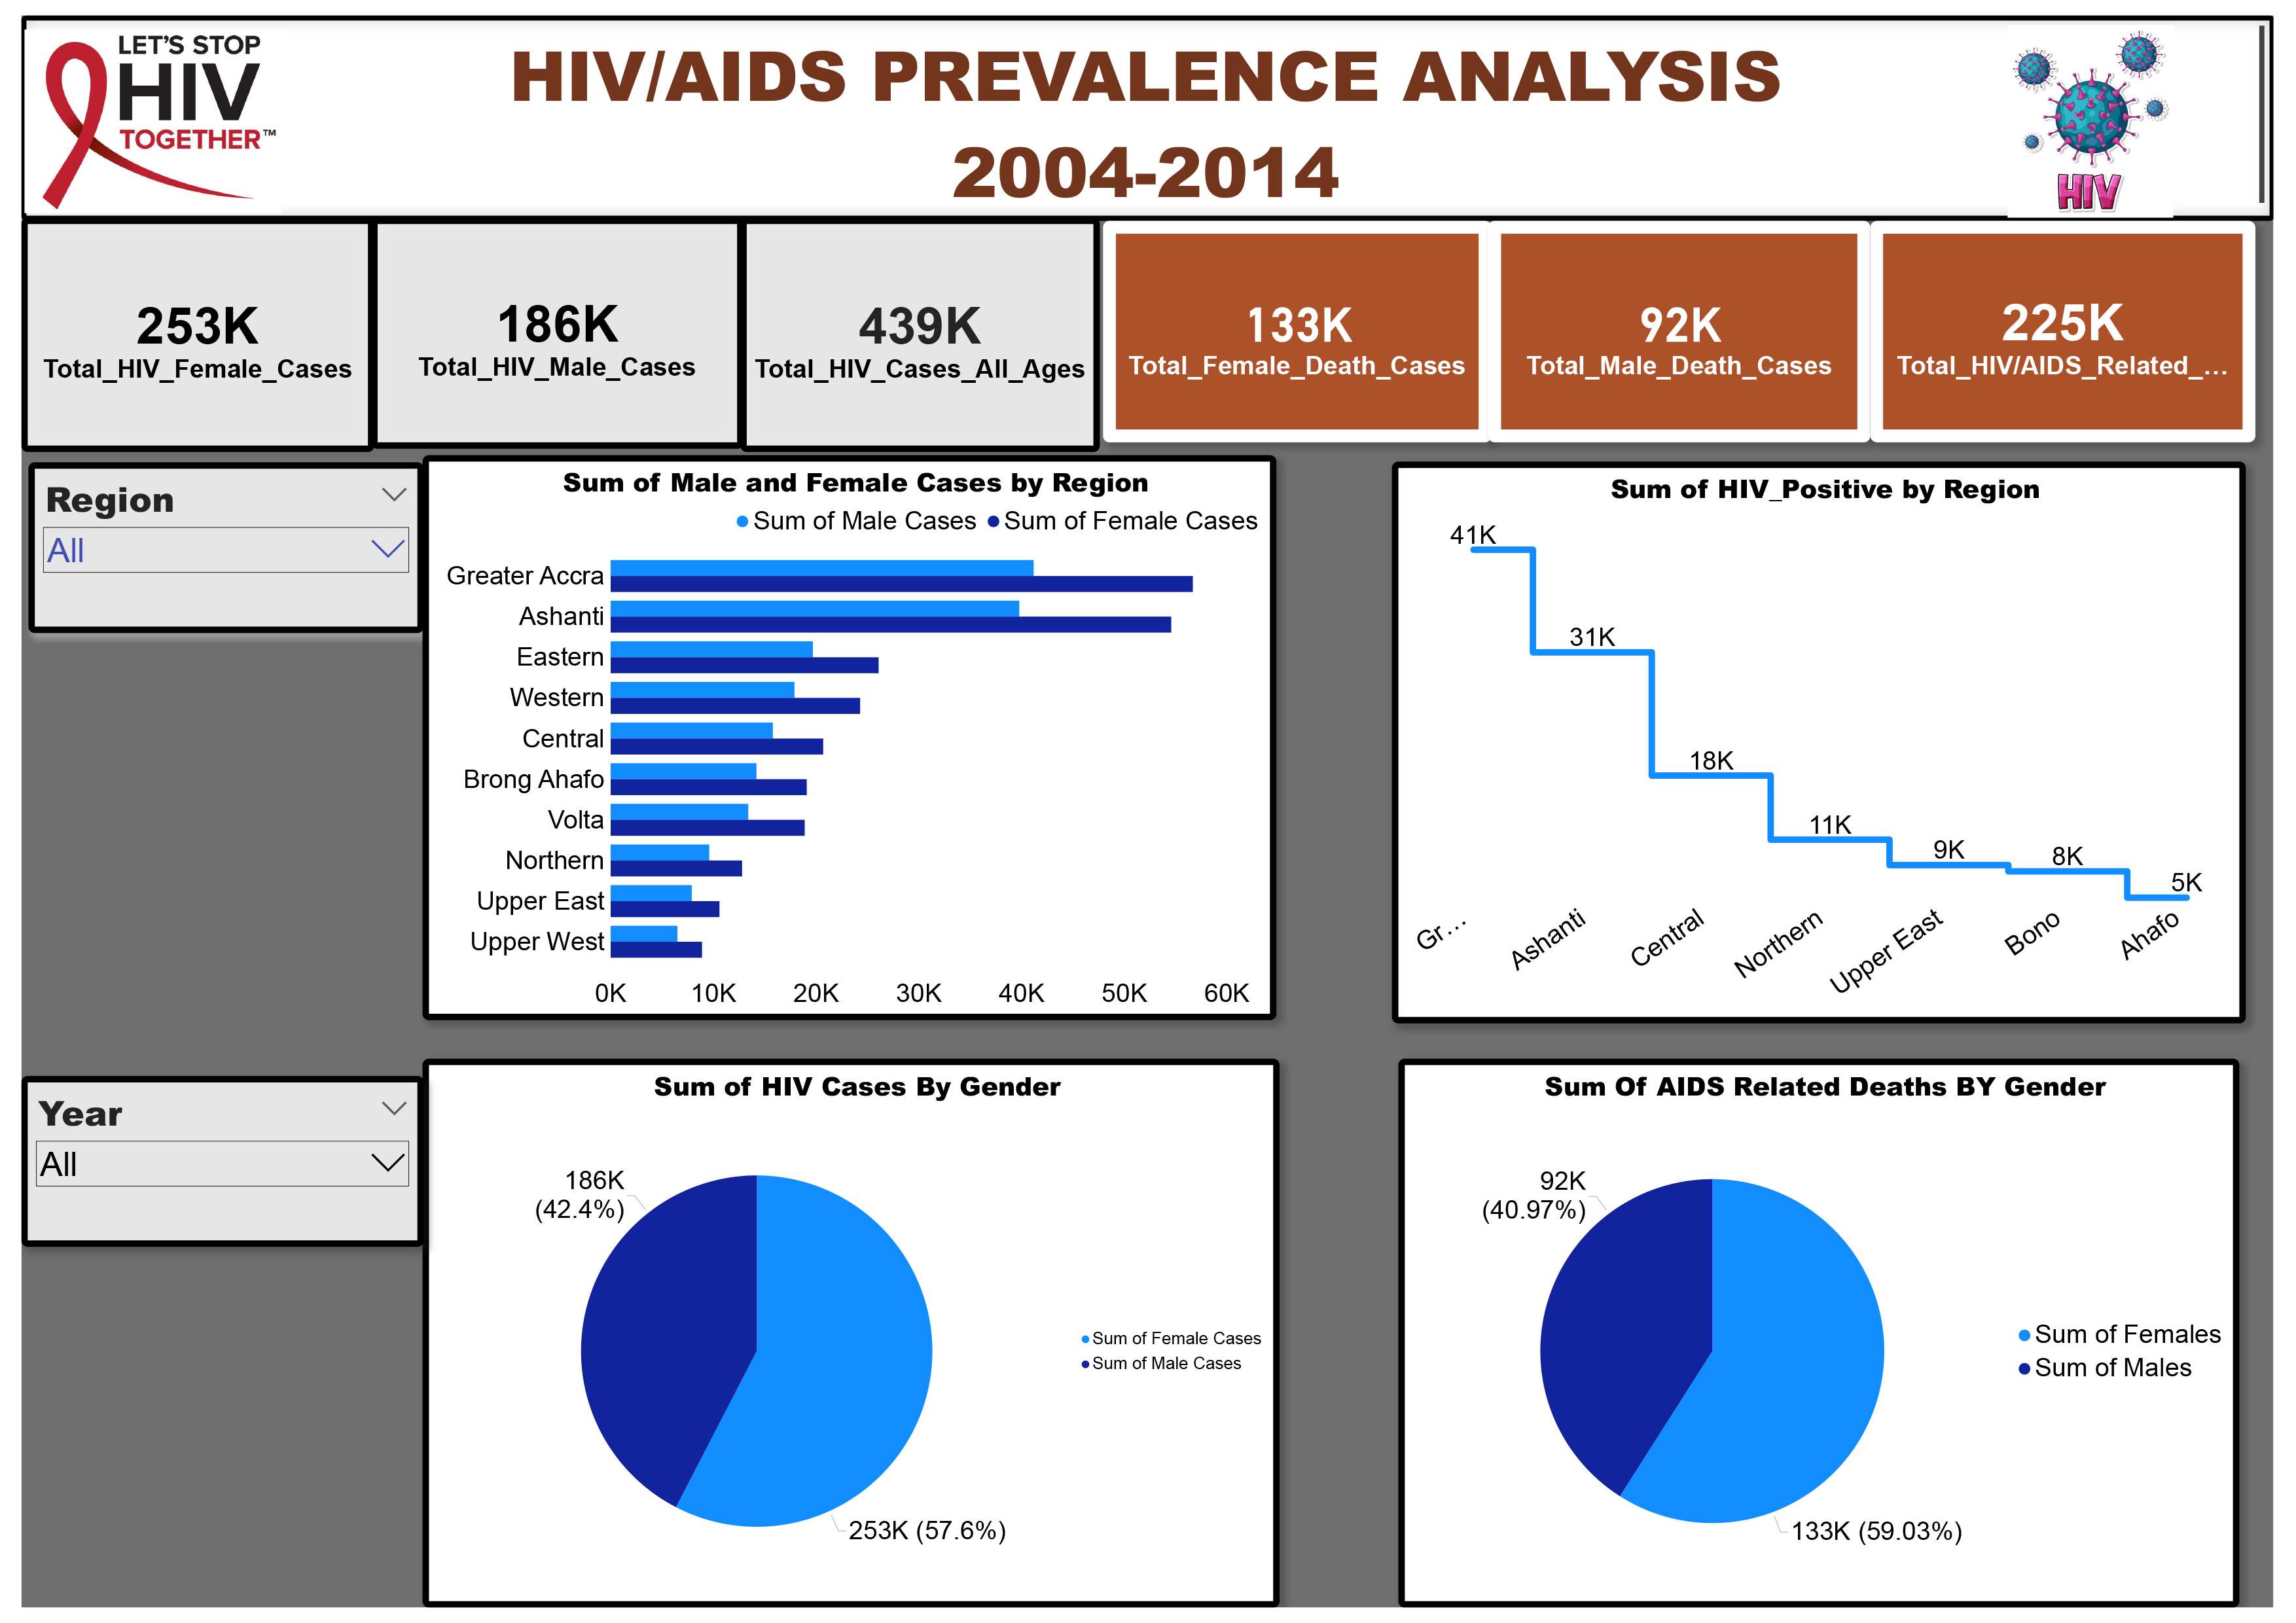

This screenshot's page, from the dashboard's own definition file:
{"tool":"powerbi","page":{"name":"Front View","canvas":[3508,2480],"ordinal":0},"visuals":[{"type":"textbox","box":[0,0,3510,320],"z":0},{"type":"card","fields":{"Values":["HIV GENDER ESTIMATES.Total_HIV_Female_Cases"]},"box":[0,315,550,365],"z":1000},{"type":"card","fields":{"Values":["HIV GENDER ESTIMATES.Sum_Of_Total_Cases_All_Ages"]},"box":[1120,315,560,365],"z":2000},{"type":"card","fields":{"Values":["HIV GENDER ESTIMATES.Total_HIV_Male_Cases"]},"box":[545,315,580,360],"z":3000},{"type":"slicer","fields":{"Values":["HIV GENDER ESTIMATES.Region"]},"box":[10.6,696,616.3,265.6],"z":4000},{"type":"pieChart","title":"Sum of HIV Cases By Gender","fields":{"Y":["Sum(HIV GENDER ESTIMATES.Female Cases)","Sum(HIV GENDER ESTIMATES.Male Cases)"]},"box":[625,1625,1335,855],"z":5000},{"type":"clusteredBarChart","title":"Sum of Male and Female Cases by Region","fields":{"Category":["HIV GENDER ESTIMATES.Region"],"Y":["Sum(HIV GENDER ESTIMATES.Male Cases)","Sum(HIV GENDER ESTIMATES.Female Cases)"]},"box":[625,685,1330,880],"z":6000},{"type":"lineChart","fields":{"Category":["Ghana_HIV_Map_2004_2014.Region"],"Y":["Sum(Ghana_HIV_Map_2004_2014.HIV_Positive)"]},"box":[2135,695,1330,875],"z":7000},{"type":"image","box":[0,10,410,310],"z":8000},{"type":"image","box":[2980,10,485,310],"z":9000},{"type":"card","fields":{"Values":["AIDS RELATED DEATHS.Total_Sum_Of_HIV_Female_Patients"]},"box":[1685,320,605,345],"z":10000},{"type":"card","fields":{"Values":["AIDS RELATED DEATHS.Total_Sum_Of_HIV_Male_Patients"]},"box":[2285,320,595,345],"z":11000},{"type":"card","fields":{"Values":["AIDS RELATED DEATHS.Total_Sum_Of_HIV/AIDS_Related_Deaths"]},"box":[2880,320,600,345],"z":12000},{"type":"pieChart","title":"Sum Of AIDS Related Deaths BY Gender","fields":{"Y":["Sum(AIDS RELATED DEATHS.Females)","Sum(AIDS RELATED DEATHS.Males)"]},"box":[2145,1625,1310,855],"z":13000},{"type":"slicer","fields":{"Values":["AIDS RELATED DEATHS.Year"]},"box":[0,1652.3,626.9,265.6],"z":14000}]}

Visuals, with their boxes in screenshot pixels (x1, y1, x2, y2), scaled from the page's 3508x2480 canvas onto the 2296x1623 screenshot:
textbox: bbox=(0, 0, 2295, 209)
card - HIV GENDER ESTIMATES.Total_HIV_Female_Cases: bbox=(0, 206, 360, 445)
card - HIV GENDER ESTIMATES.Sum_Of_Total_Cases_All_Ages: bbox=(733, 206, 1100, 445)
card - HIV GENDER ESTIMATES.Total_HIV_Male_Cases: bbox=(357, 206, 736, 442)
slicer - HIV GENDER ESTIMATES.Region: bbox=(7, 455, 410, 630)
"Sum of HIV Cases By Gender" pieChart: bbox=(409, 1063, 1283, 1622)
"Sum of Male and Female Cases by Region" clusteredBarChart: bbox=(409, 448, 1280, 1024)
lineChart - Ghana_HIV_Map_2004_2014.Region x Sum(Ghana_HIV_Map_2004_2014.HIV_Positive): bbox=(1397, 455, 2268, 1027)
image: bbox=(0, 7, 268, 209)
image: bbox=(1950, 7, 2268, 209)
card - AIDS RELATED DEATHS.Total_Sum_Of_HIV_Female_Patients: bbox=(1103, 209, 1499, 435)
card - AIDS RELATED DEATHS.Total_Sum_Of_HIV_Male_Patients: bbox=(1496, 209, 1885, 435)
card - AIDS RELATED DEATHS.Total_Sum_Of_HIV/AIDS_Related_Deaths: bbox=(1885, 209, 2278, 435)
"Sum Of AIDS Related Deaths BY Gender" pieChart: bbox=(1404, 1063, 2261, 1622)
slicer - AIDS RELATED DEATHS.Year: bbox=(0, 1081, 410, 1255)
